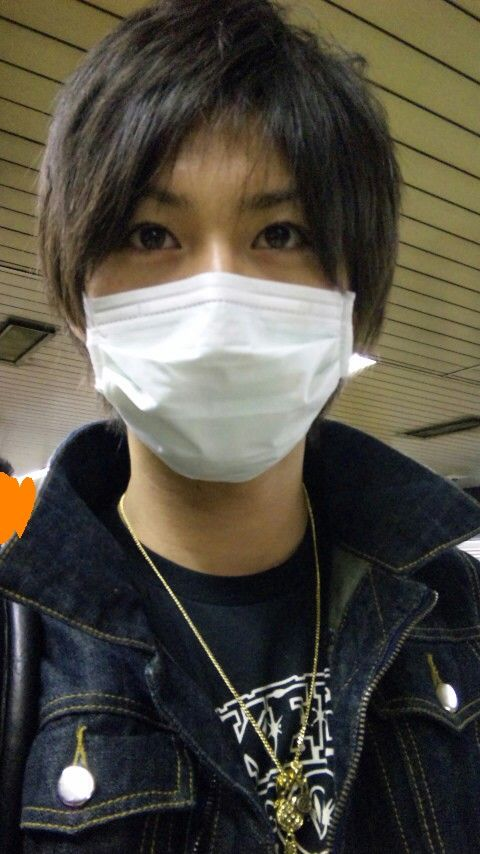face_mask: (79, 76, 330, 478)
